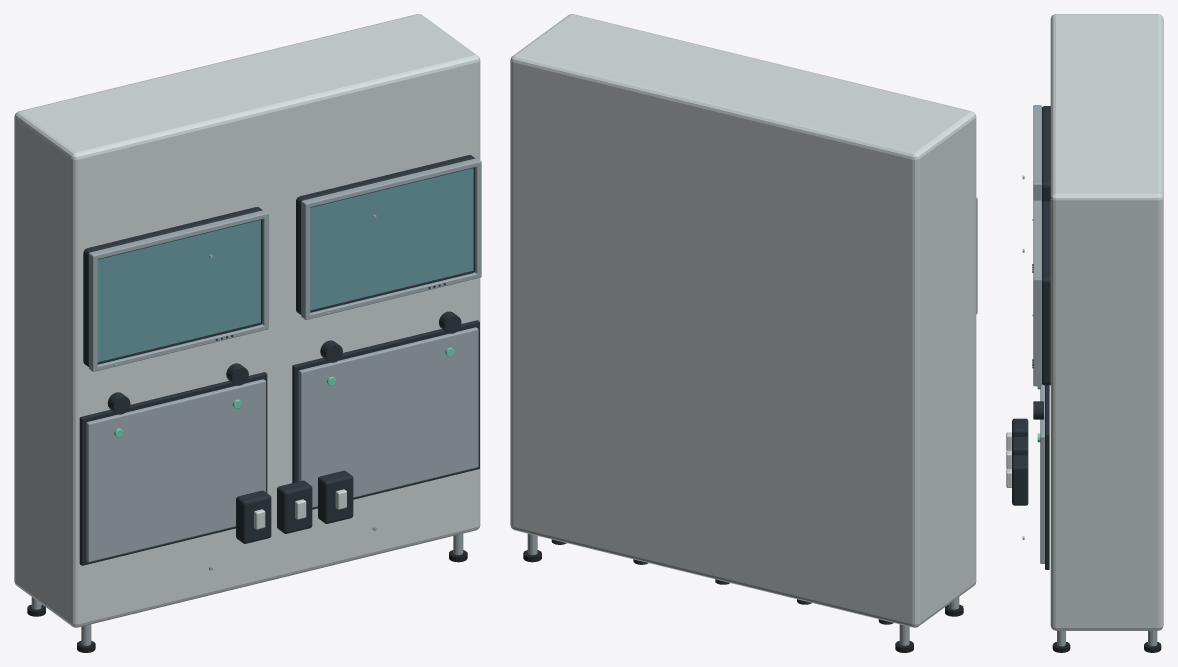
Rendered from SF_ProcessControlBay.fbx.
3 renders of one model, left to right at view 1: azimuth 30°, elevation 25°; view 2: azimuth 150°, elevation 25°; view 3: azimuth 270°, elevation 25°, orthographic. The views are drawn at different scales.
Parts seen in each view (by area): view 1: SF_ProcessControlBay; view 2: SF_ProcessControlBay; view 3: SF_ProcessControlBay.
Boxes of the visible parts, box(x1,y1,x2,y2) form: SF_ProcessControlBay: box(14, 14, 481, 652); SF_ProcessControlBay: box(510, 14, 977, 652); SF_ProcessControlBay: box(1006, 14, 1163, 652).
Bounding box in the file's own units: 200 × 235 × 72.35.
